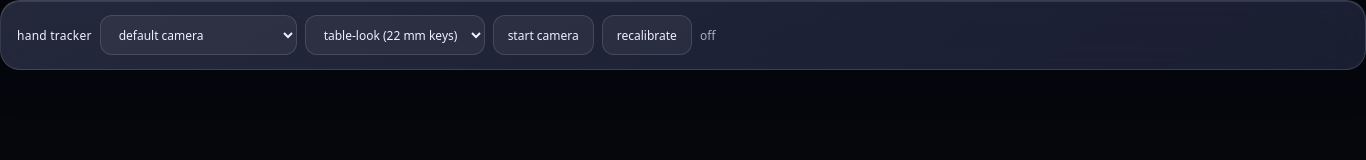
Scenario: a start cannot overlap another: the button is "stop" while the camera and tracker load
The width and height of the screenshot is (1366, 160).
Click the button "start camera". click: coordinates (543, 35)
box: [493,15,594,55]
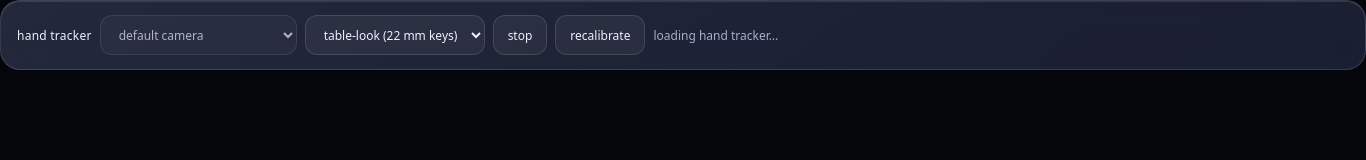
expect the 1st dropdown is disabled: met, box [100,15,297,55]
